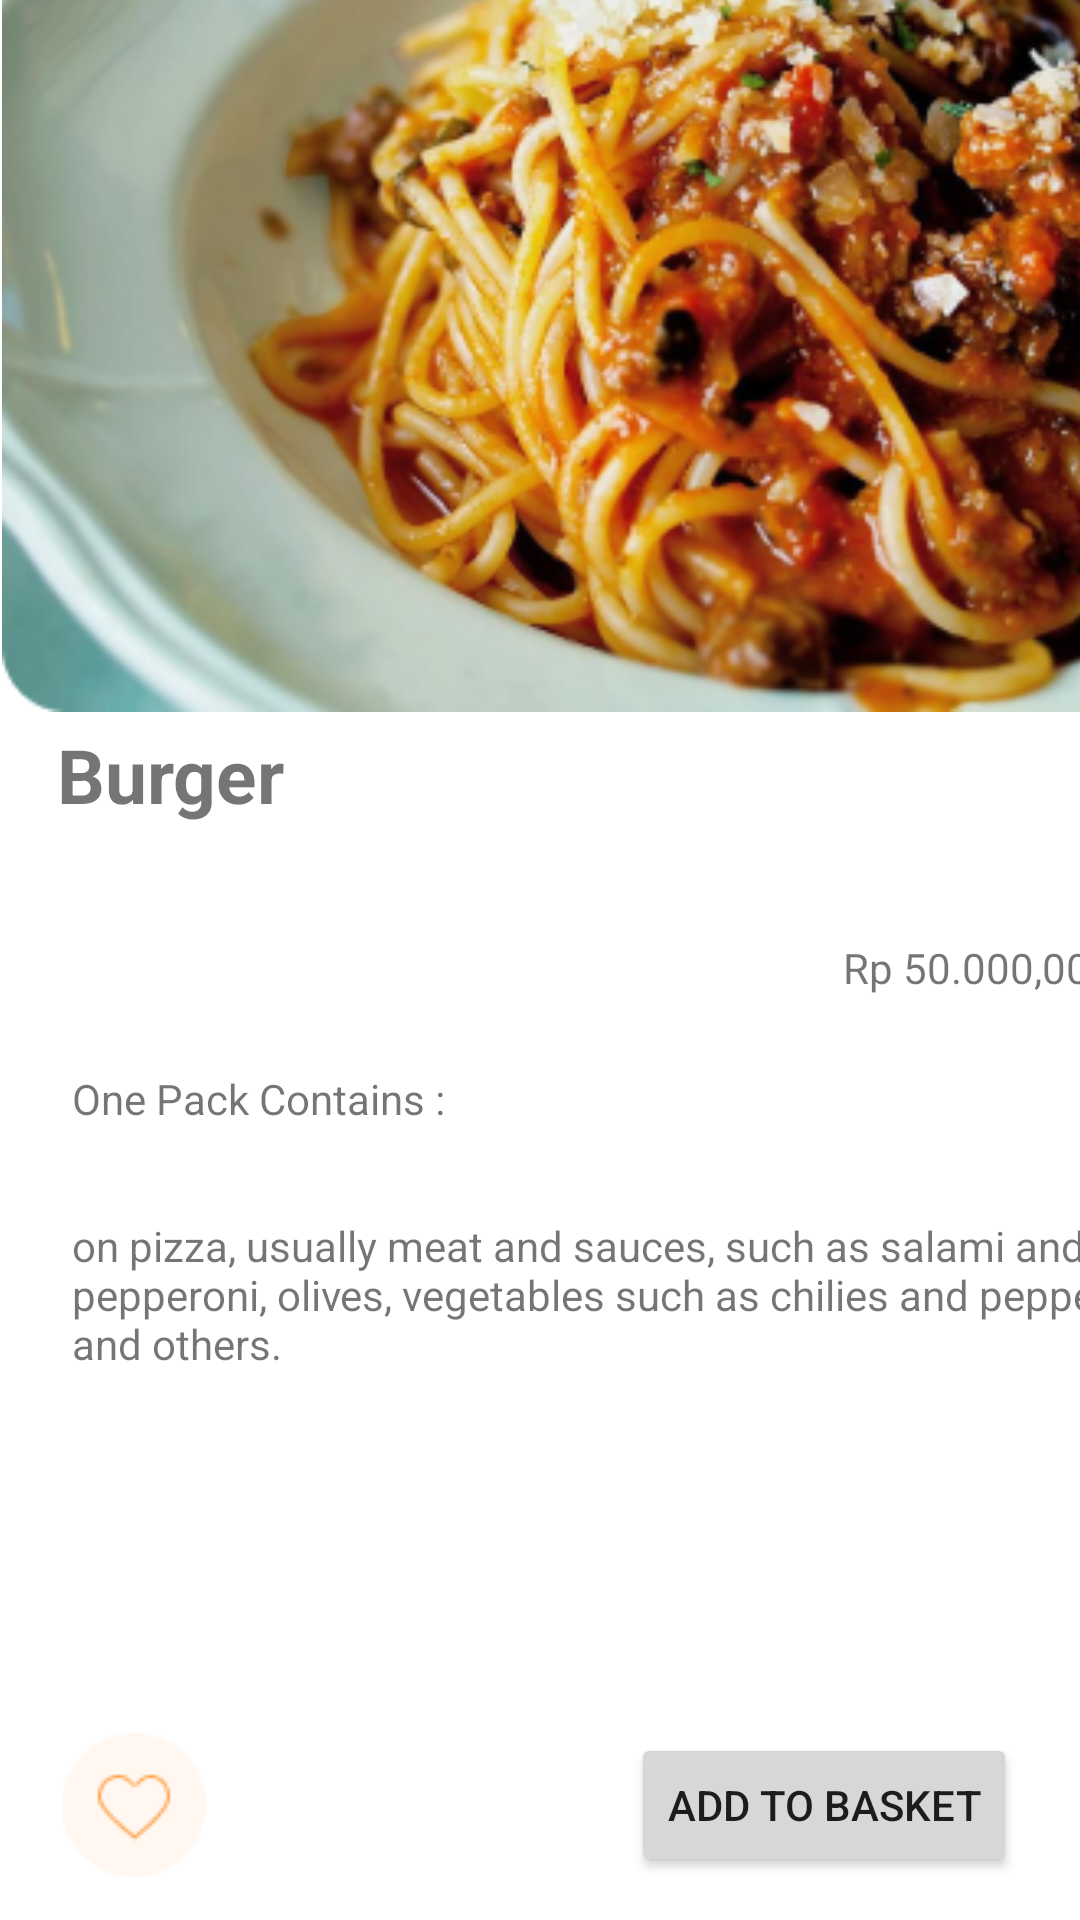

Point at icon controls on the screen. Image size 1080px×1920px, points as point (x, y).
love: point (134, 1805)
